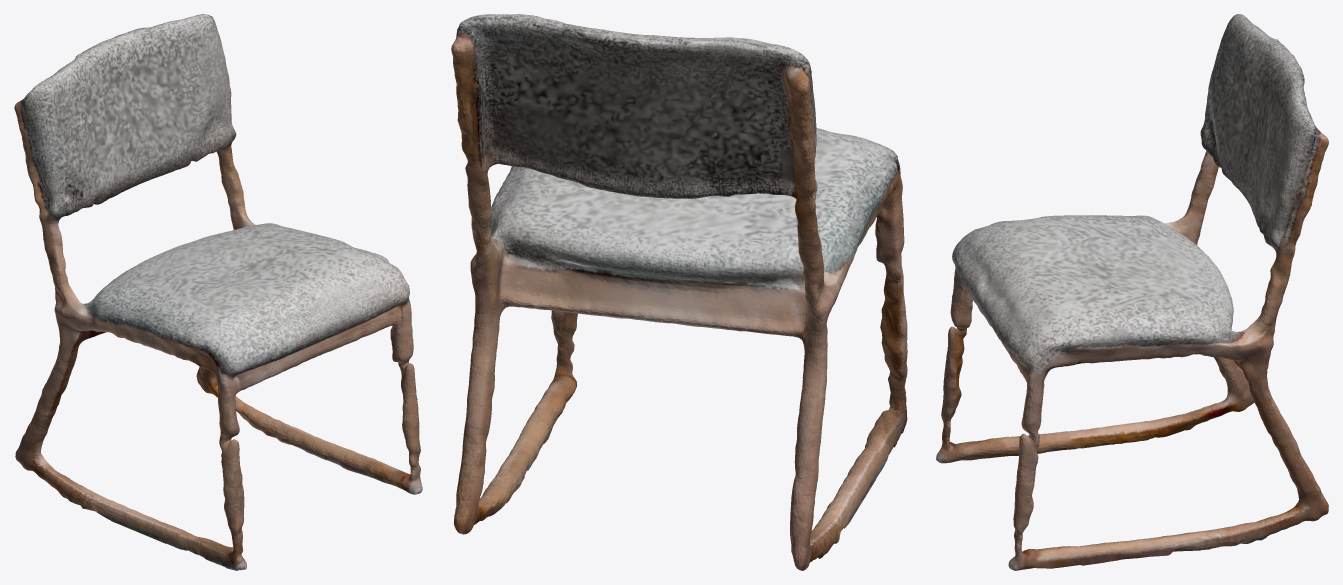
The model's file is chair_detail.glb.
3 renders of one model, left to right at view 1: azimuth 30°, elevation 25°; view 2: azimuth 150°, elevation 25°; view 3: azimuth 270°, elevation 25°, orthographic. The views are drawn at different scales.
Visible parts, largest first — view 1: seat cushion, backrest · back, runner · left, runner · right, leg · front left, post · back left, leg · front right, post · back right; view 2: backrest · back, seat cushion, runner · left, post · back right, runner · right, post · back left, leg · front left, leg · front right; view 3: seat cushion, backrest · back, runner · right, runner · left, post · back right, leg · front right, leg · front left, post · back left.
Part boxes in pixels (x1,y1,x2,y2): seat cushion: (64,210,410,395); backrest · back: (14,14,236,219); runner · left: (15,370,246,570); runner · right: (196,366,413,494); leg · front left: (217,377,246,568); post · back left: (26,164,83,377); leg · front right: (390,303,422,494); post · back right: (216,143,245,229); backrest · back: (451,14,817,199); seat cushion: (489,127,902,349); runner · left: (790,394,907,570); post · back right: (457,92,505,433); runner · right: (454,373,576,534); post · back left: (791,139,834,398); leg · front left: (875,182,907,415); leg · front right: (551,310,577,383); seat cushion: (952,215,1263,385); backrest · back: (1200,14,1328,251); runner · right: (1015,447,1328,570); runner · left: (936,357,1254,463); post · back right: (1239,198,1312,458); leg · front right: (1008,372,1046,570); leg · front left: (936,268,972,461); post · back left: (1175,151,1218,244).
Size of the model in its own units: 0.6134 by 0.7959 by 0.6712.
